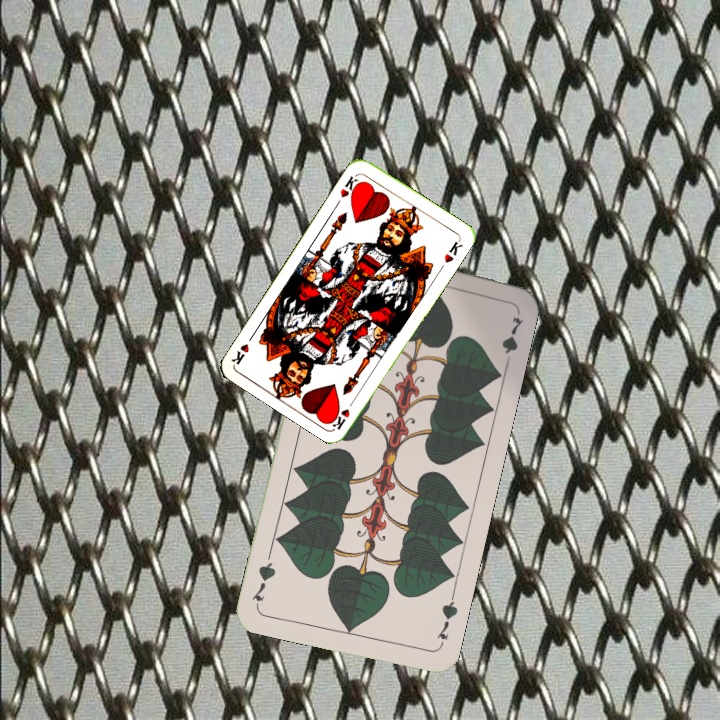G7: (432, 591, 461, 650)
HK: (328, 394, 359, 432), (336, 170, 364, 201)
